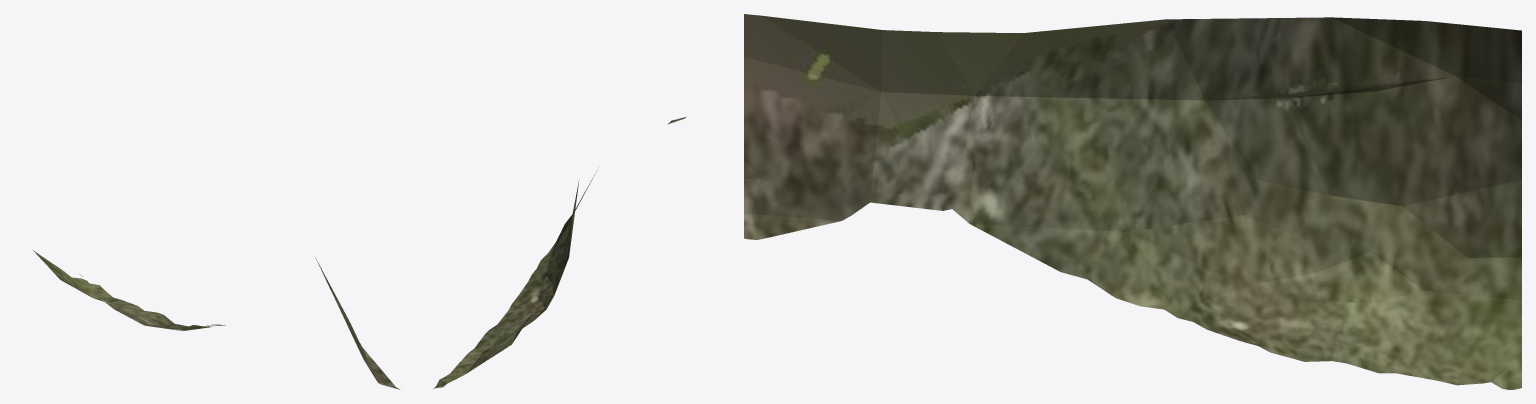
3 views of the same model, side by side, from view 1: azimuth 30°, elevation 25°; view 2: azimuth 150°, elevation 25°; view 3: azimuth 270°, elevation 25° (orthographic). The views are drawn at different scales.
Bounding box in the file's own units: 0.4556 × 1.43 × 2.95.
Materials: 1 (1 with a texture image).
